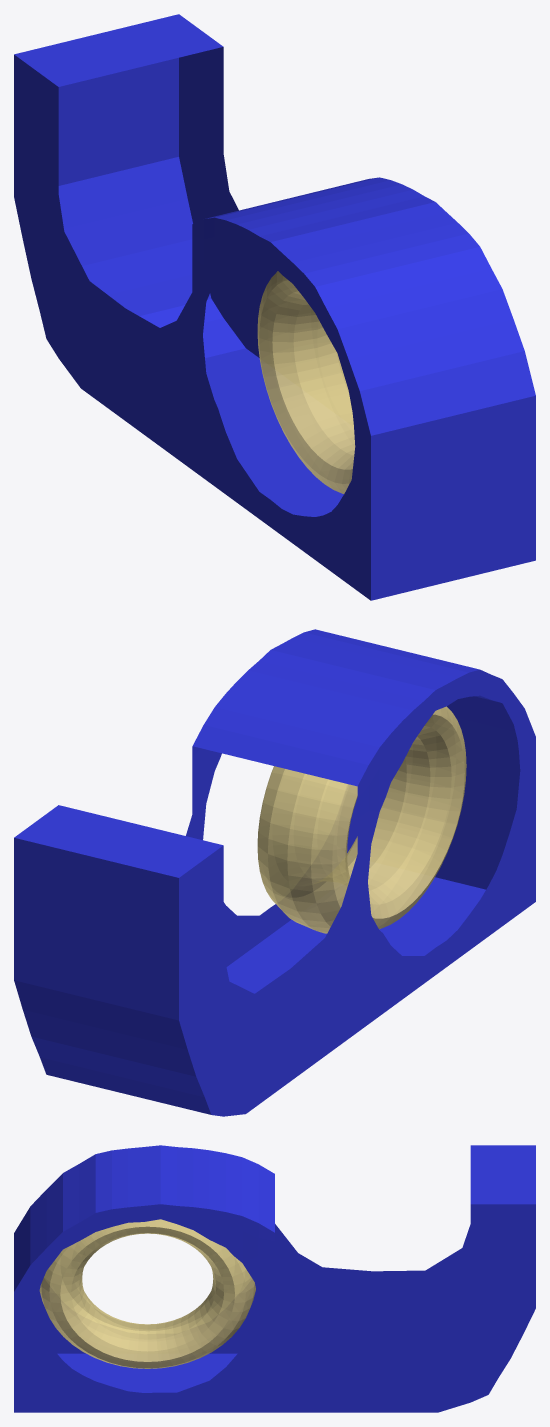
The model's file is Scotch_tape.fbx.
3 views of the same model, one above another, from view 1: azimuth 30°, elevation 25°; view 2: azimuth 150°, elevation 25°; view 3: azimuth 270°, elevation 25° (orthographic). The views are drawn at different scales.
Visible parts, largest first — view 1: Body, Circle; view 2: Body, Circle; view 3: Body, Circle.
Boxes of the visible parts, x1,y1,x2,y2 form: Body: (14,14,535,600); Circle: (257,271,355,493); Body: (14,629,535,1116); Circle: (257,706,466,933); Body: (14,1145,535,1412); Circle: (39,1219,255,1368).
Bounding box in the file's own units: 121 × 200 × 454.
